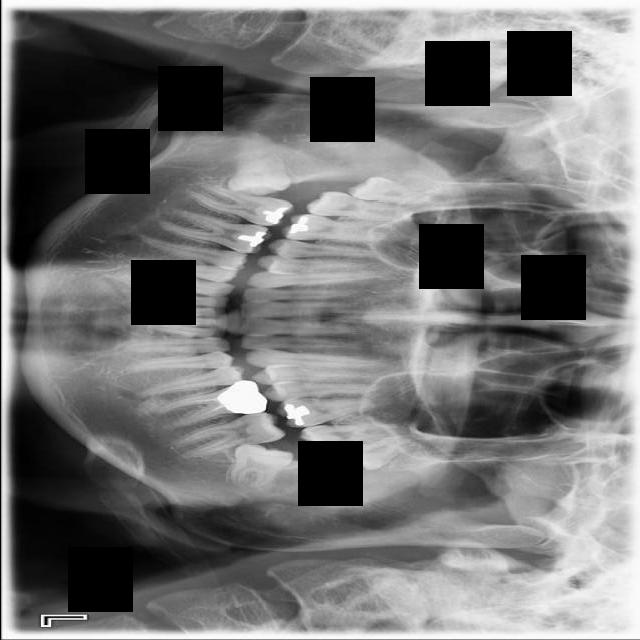3M ESPE Implant: (344, 174, 430, 206)
52: (273, 393, 327, 431), (243, 194, 295, 230), (212, 380, 266, 414), (225, 222, 273, 256), (280, 213, 327, 242)
73: (58, 608, 78, 622)
BioHorizons Implant: (296, 422, 397, 453)
BioLife Implant: (333, 428, 422, 479)
Biomet 3i Implant: (226, 439, 294, 498)
Blue Sky Bio Implant: (167, 407, 287, 462)
Caries: (305, 188, 407, 225)
Implant: (185, 179, 295, 232)
Keystone Dental Implant: (223, 150, 291, 203)
